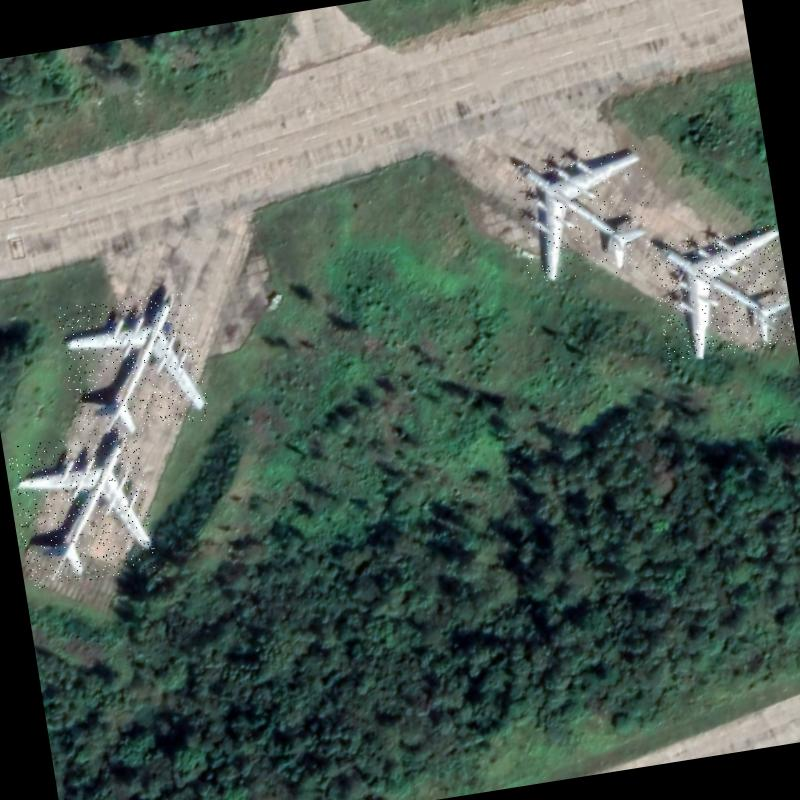A17: (6, 427, 158, 590), (57, 287, 210, 441), (508, 142, 660, 288), (649, 223, 795, 364)
